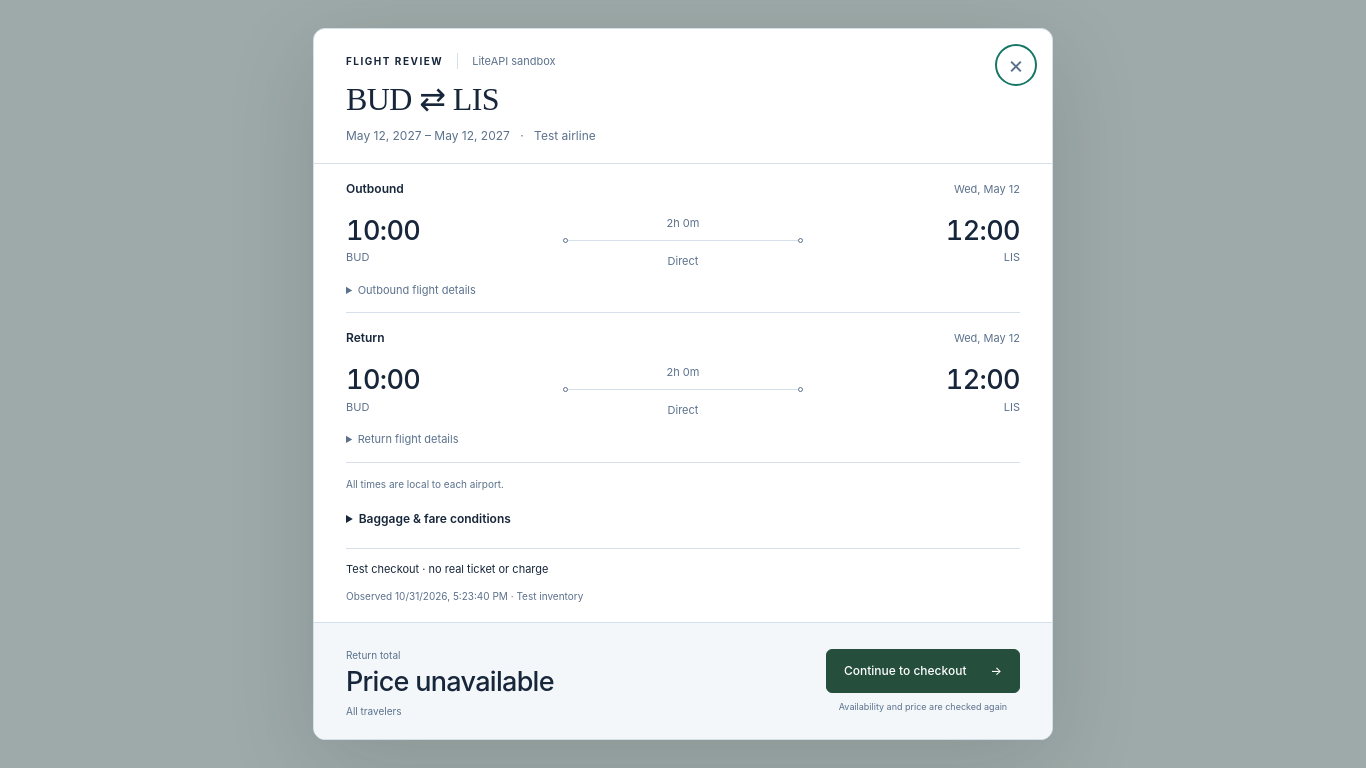
Test: checkout preparation failure stays in the itinerary and allows retry
The image size is (1366, 768).
Click the button with aria-label "Continue to flight checkout".
click(923, 671)  # box x1=826 y1=649 x2=1020 y2=693
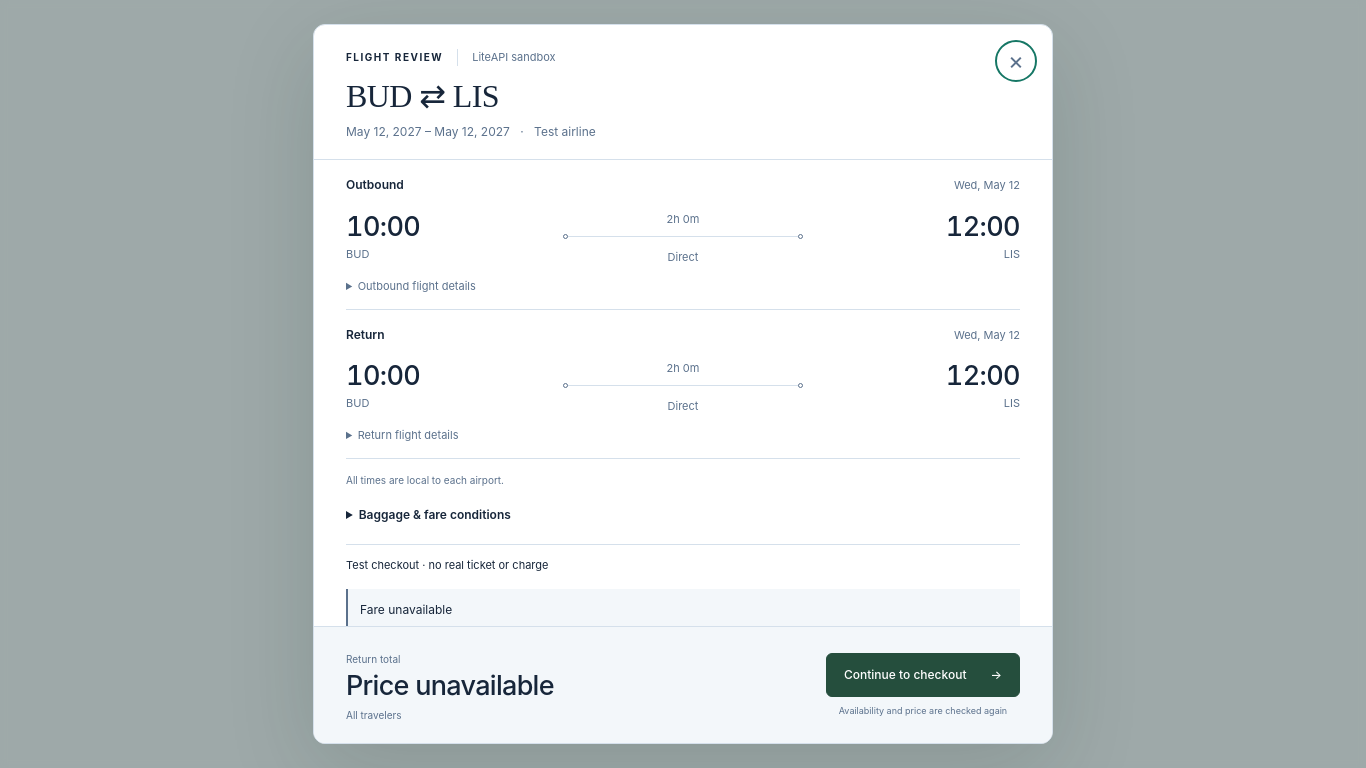
Check: the heading "Outbound" is shown, box x1=346 y1=177 x2=404 y2=194
Check: the message reads "Fare unavailable", box x1=360 y1=602 x2=452 y2=617
Click the button with aria-label "Continue to flight checkout".
click(923, 675)  # box x1=826 y1=653 x2=1020 y2=697
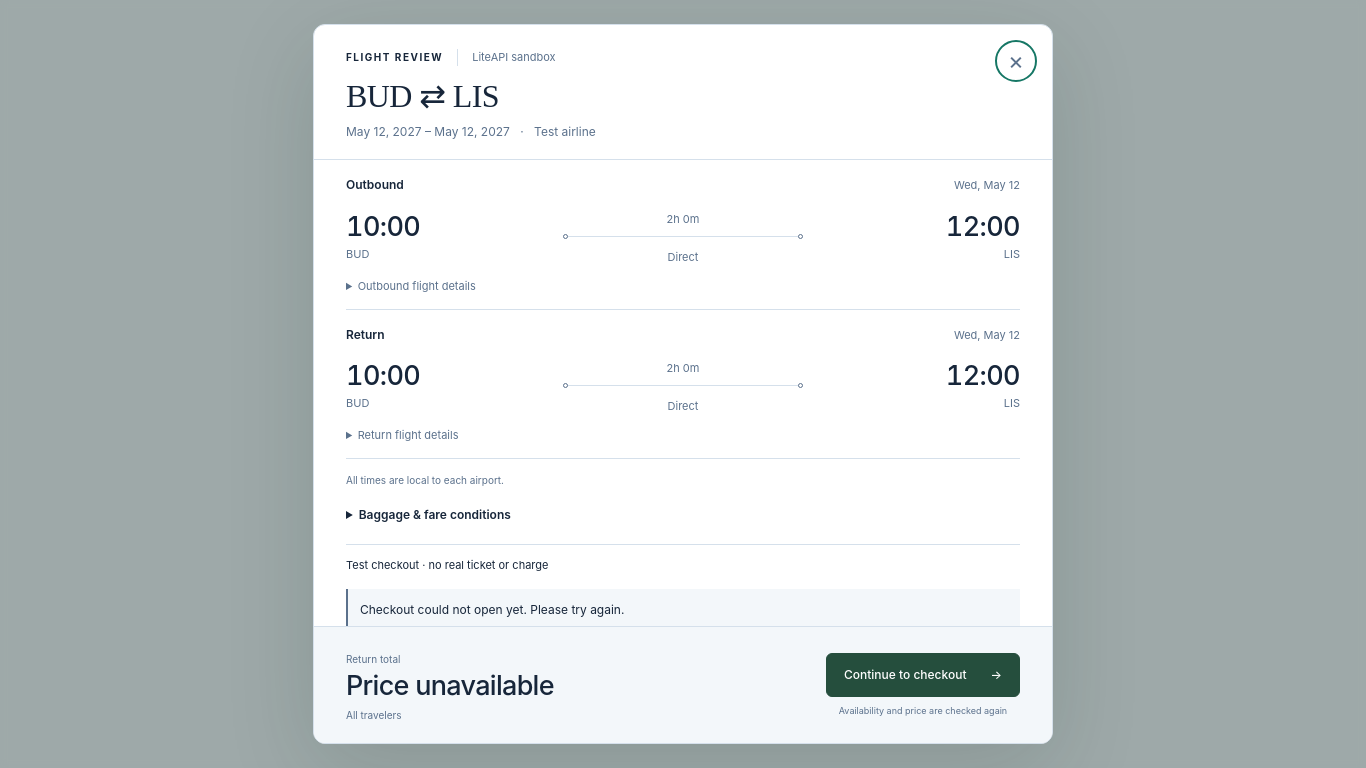
Check: the message shows "Checkout could not open yet", box x1=360 y1=602 x2=624 y2=617
